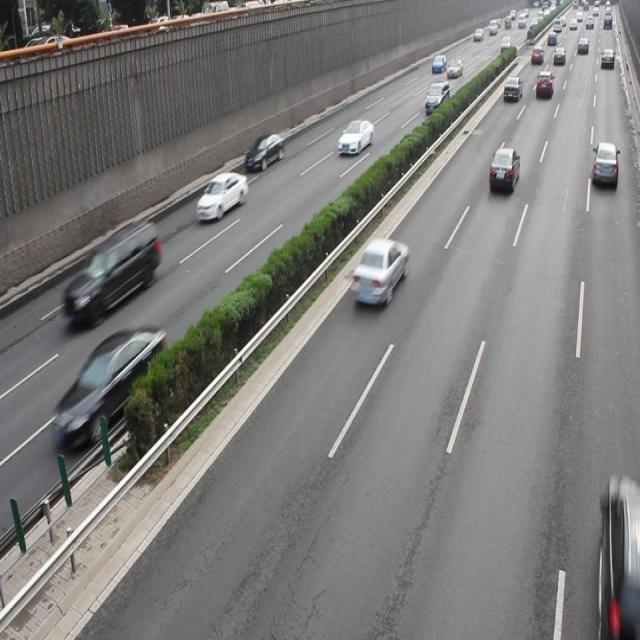car: (53, 324, 165, 449), (596, 475, 640, 639), (349, 238, 406, 308), (195, 170, 246, 222), (244, 133, 284, 173), (487, 147, 518, 193), (337, 118, 373, 156), (592, 142, 618, 187)
truck: (62, 218, 159, 324)
